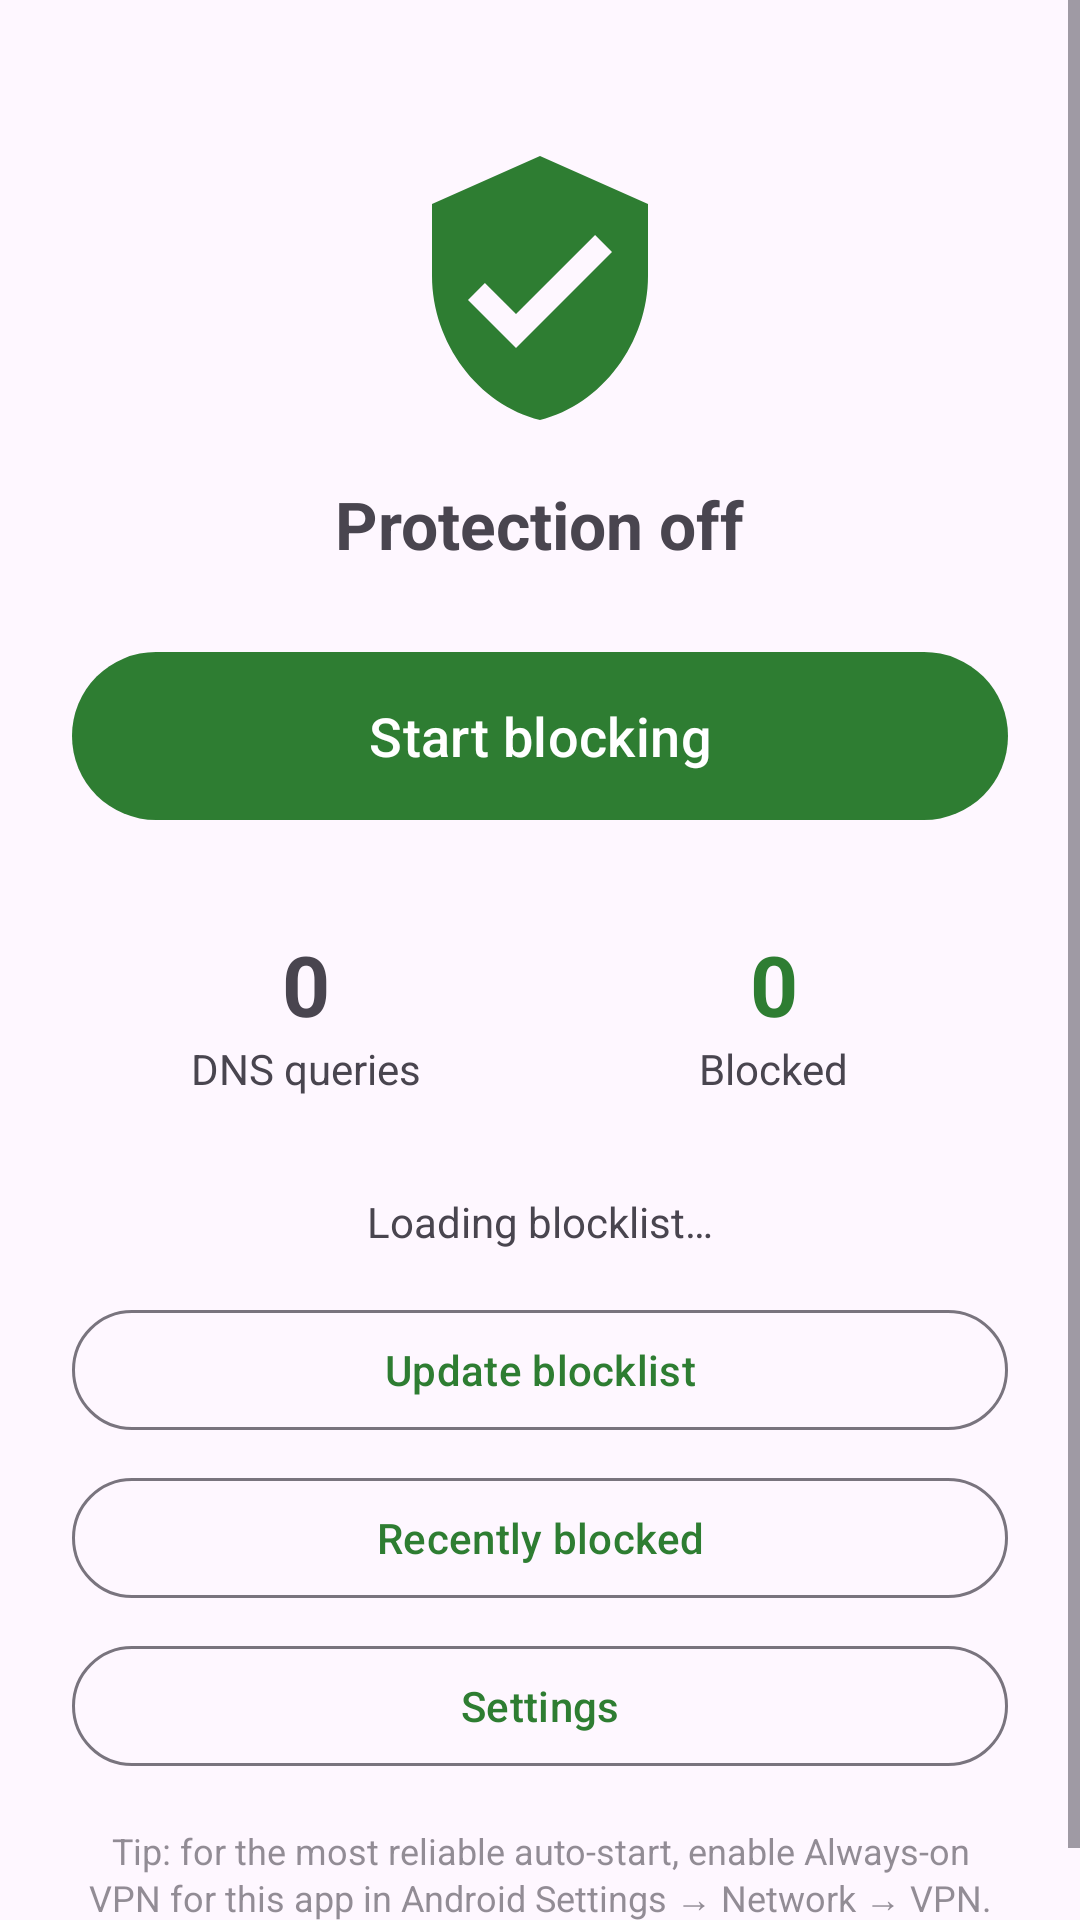

Locate icon controls on the screen. Image size 1080px x 1920px, boxes as detection(x1, y1, x2, y2).
shield: detection(432, 156, 648, 420)
